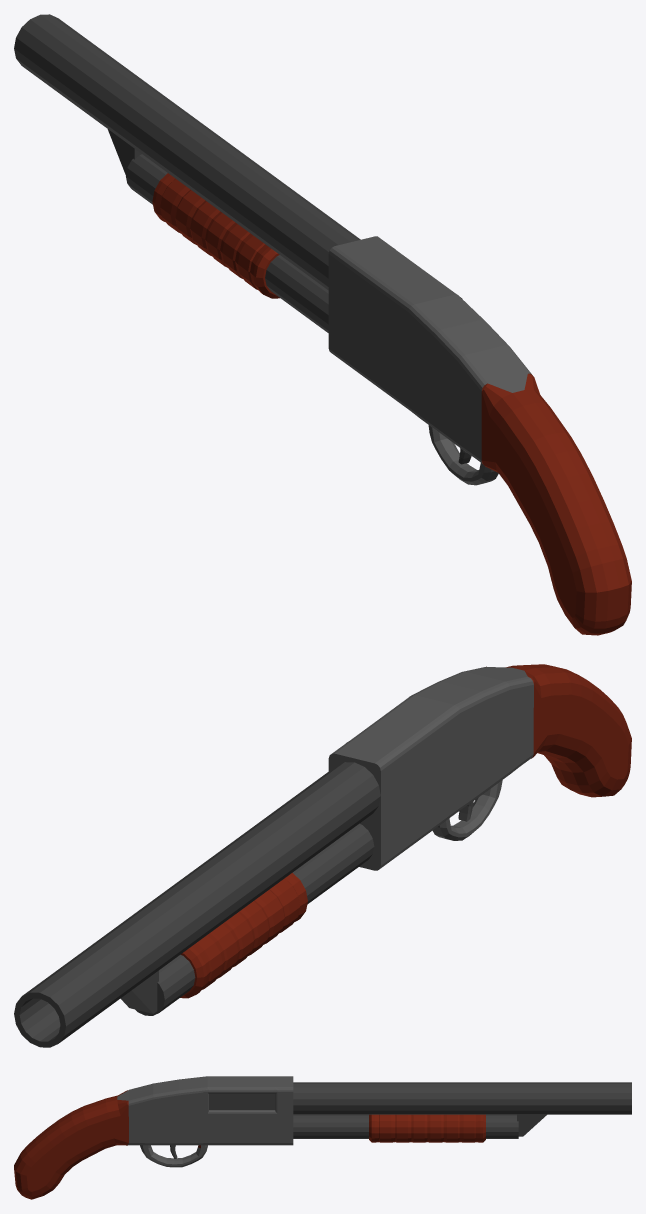
Rendered from escopeta1.fbx.
3 views of the same model, one above another, from view 1: azimuth 30°, elevation 25°; view 2: azimuth 150°, elevation 25°; view 3: azimuth 270°, elevation 25° (orthographic). The views are drawn at different scales.
Visible parts, largest first — view 1: Cube.002, Cylinder, Cylinder.002, Cylinder.001; view 2: Cube.002, Cylinder, Cylinder.002, Cylinder.001, Cube; view 3: Cube.002, Cylinder, Cylinder.002, Cylinder.001, Cube.
Part boxes in pixels (left/top/right/bottom): Cube.002: left=328, top=236, right=631, bottom=635; Cylinder: left=14, top=14, right=360, bottom=290; Cylinder.002: left=152, top=173, right=279, bottom=298; Cylinder.001: left=126, top=154, right=328, bottom=332; Cube.002: left=328, top=664, right=631, bottom=870; Cylinder: left=14, top=762, right=380, bottom=1047; Cylinder.002: left=180, top=873, right=307, bottom=998; Cylinder.001: left=135, top=823, right=374, bottom=1015; Cube: left=120, top=970, right=158, bottom=1013; Cube.002: left=14, top=1076, right=293, bottom=1199; Cylinder: left=293, top=1082, right=631, bottom=1114; Cylinder.002: left=369, top=1114, right=485, bottom=1142; Cylinder.001: left=293, top=1114, right=518, bottom=1138; Cube: left=517, top=1114, right=546, bottom=1136.
Bounding box in the file's own units: 200 × 786 × 3818.
